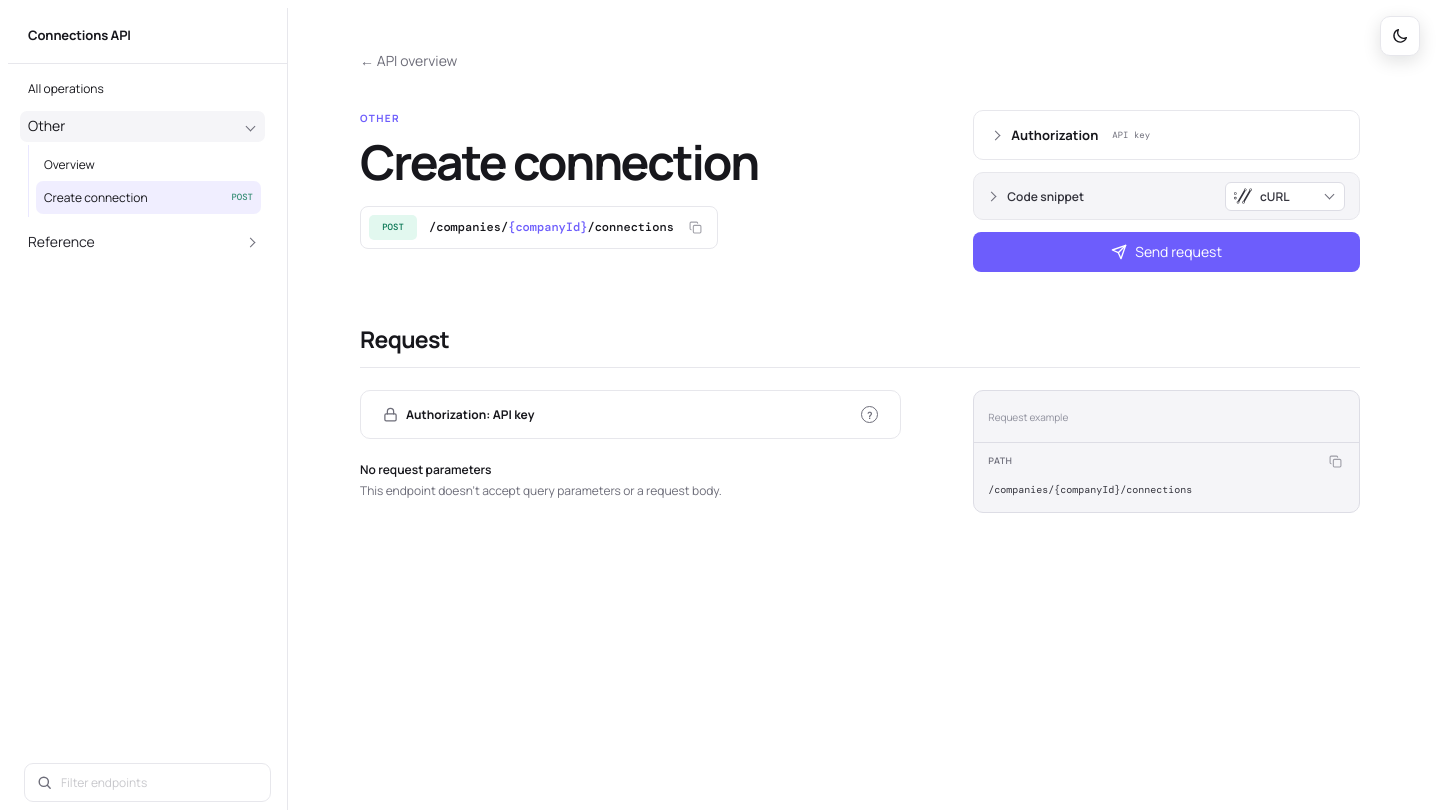
it: operation security schemes › renders the referenced Swagger API key definition
The width and height of the screenshot is (1440, 810).
Check: the icon with class "sp-security-lock" is shown, box [383, 407, 398, 422]
Check: the text with class "sp-security-info" reads "?", box [867, 408, 873, 422]
What coordinates should you click on to do the following:
click the button "Authorization: API key ?"
I would click on:
 (446, 414)
Its box is [383, 405, 878, 424].
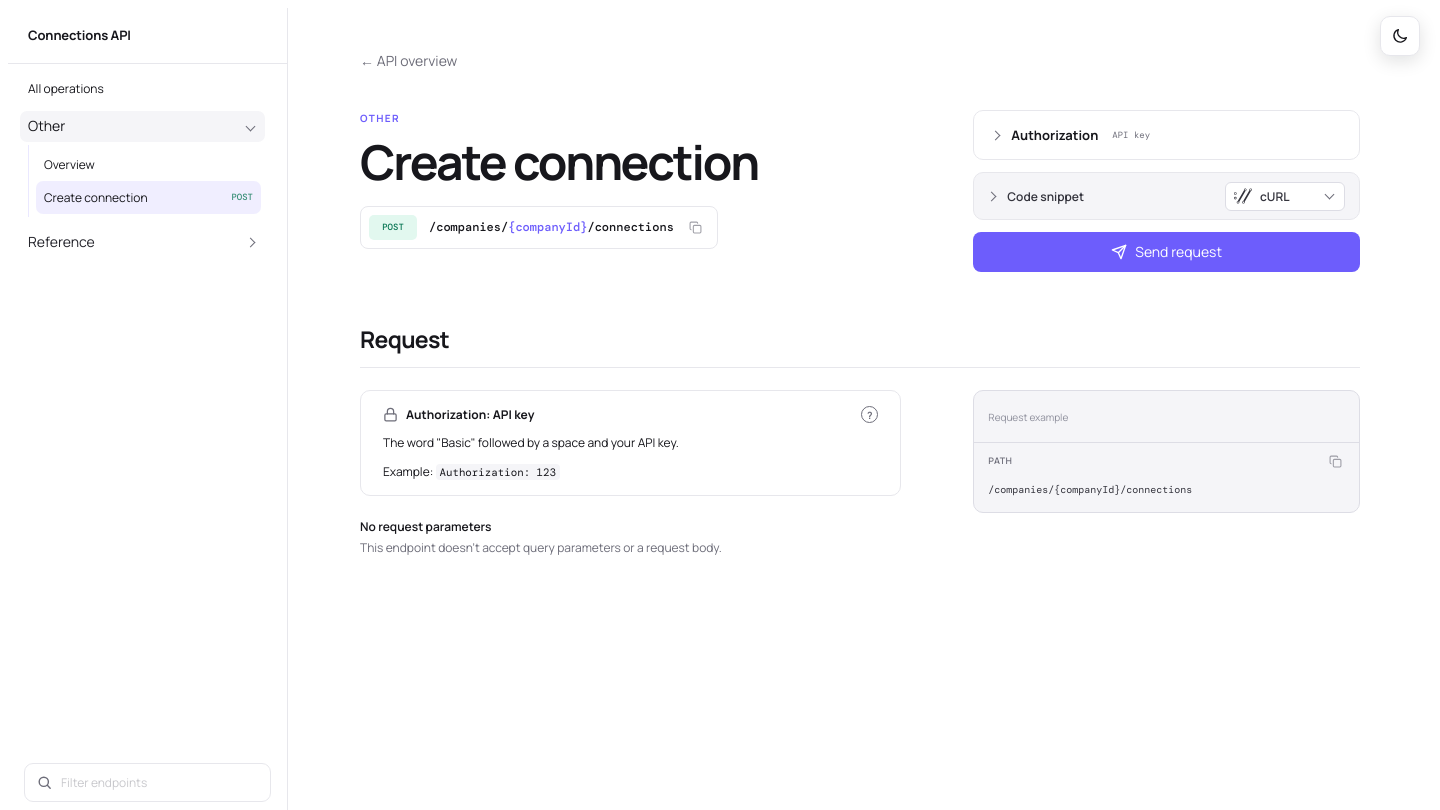
Check: the text "The word \"Basic\" followed by a space and your API key." is shown, box [383, 434, 679, 451]
Check: the text "Authorization: 123" is shown, box [436, 464, 560, 480]
